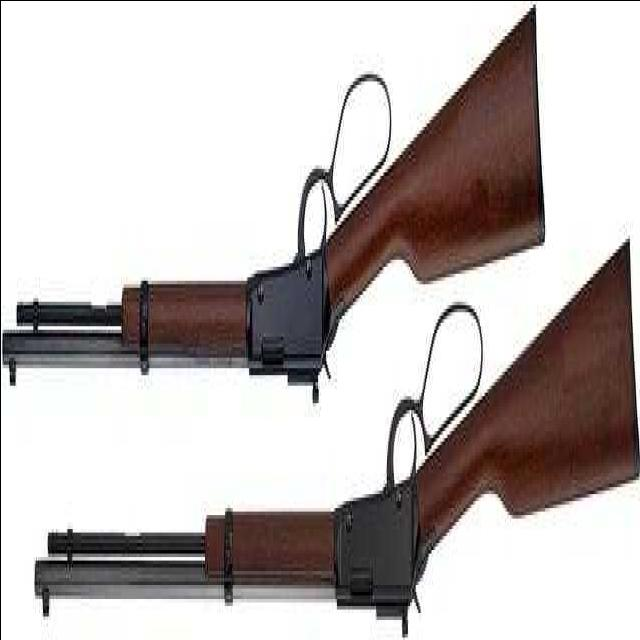heavyweapon: (34, 218, 637, 640), (4, 1, 547, 463)
